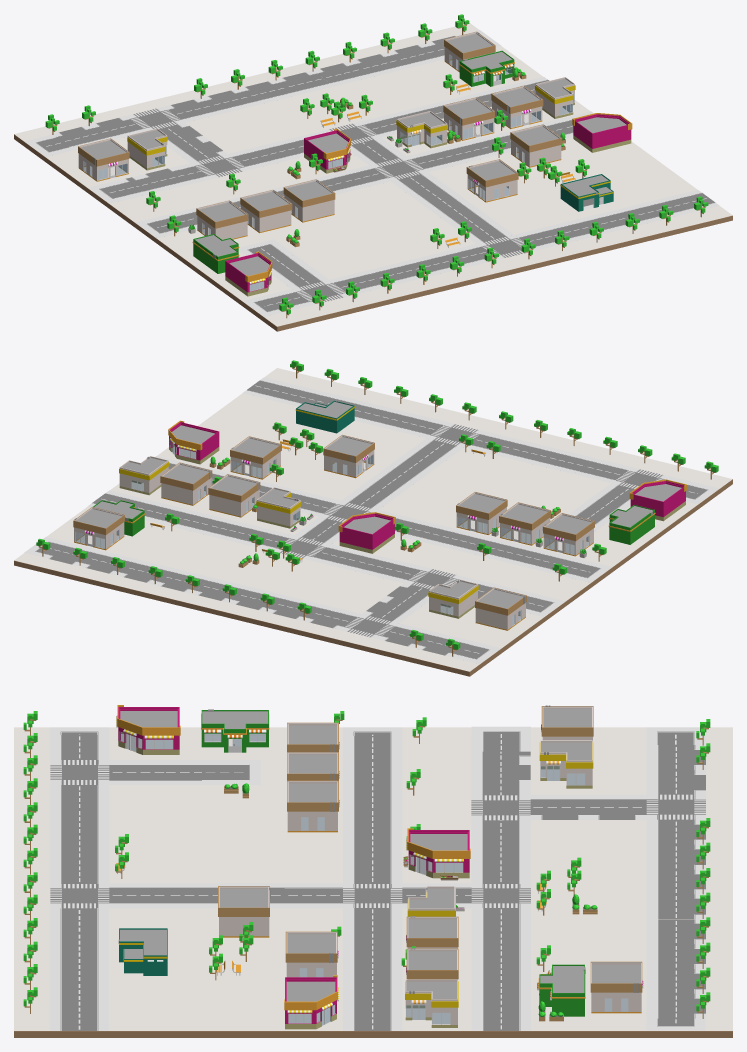
The model's file is Instacart_Project_Background.gltf.
3 views of the same model, one above another, from view 1: azimuth 30°, elevation 25°; view 2: azimuth 150°, elevation 25°; view 3: azimuth 270°, elevation 25° (orthographic). The views are drawn at different scales.
Parts seen in each view (by area): view 1: Plane, Road (×24), House-Pink Light (×11), Cube, House.1-Mat.5 (×3), House.2-Mat.9 (×2), Roof (×2), House-dark blue; view 2: Plane, Road (×25), House-Pink Light (×12), Cube, House.1-Mat.5 (×3), House-dark blue, House.2-Mat.9, Roof; view 3: Plane, Road (×55), Roof (×18), House-Pink Light (×6), Cube, House-Brown (×7), House.2-Mat.9 (×2), Plane.1 (×3), House.1-Mat.5 (×3), House.2-Orange (×3), Lines (×3), House-dark blue.
Part boxes in pixels (x1,y1,x2,y2): Plane: (14,23,732,326); Road (×24): (56,45,527,301); House-Pink Light (×11): (78,77,574,239); Cube: (14,134,732,331); House.1-Mat.5 (×3): (225,114,631,292); House.2-Mat.9 (×2): (193,50,514,273); Roof (×2): (195,52,512,256); House-dark blue: (560,174,610,211); Plane: (14,368,732,671); Road (×25): (46,380,628,646); House-Pink Light (×12): (74,435,593,629); Cube: (14,479,732,676); House.1-Mat.5 (×3): (169,422,685,549); House-dark blue: (296,400,354,433); House.2-Mat.9: (609,505,654,544); Roof: (611,506,652,527); Plane: (14,727,732,1030); Road (×55): (50,731,705,1030); Roof (×18): (120,708,640,1001); House-Pink Light (×6): (219,740,641,1024); Cube: (14,1031,732,1037); House-Brown (×7): (218,706,642,992); House.2-Mat.9 (×2): (201,710,584,1016); Plane.1 (×3): (202,726,705,784); House.1-Mat.5 (×3): (118,707,469,1023); House.2-Orange (×3): (117,705,470,1010); Lines (×3): (50,760,705,820); House-dark blue: (119,928,167,975).
Bounding box in the file's own units: 2001 × 114 × 2000.
